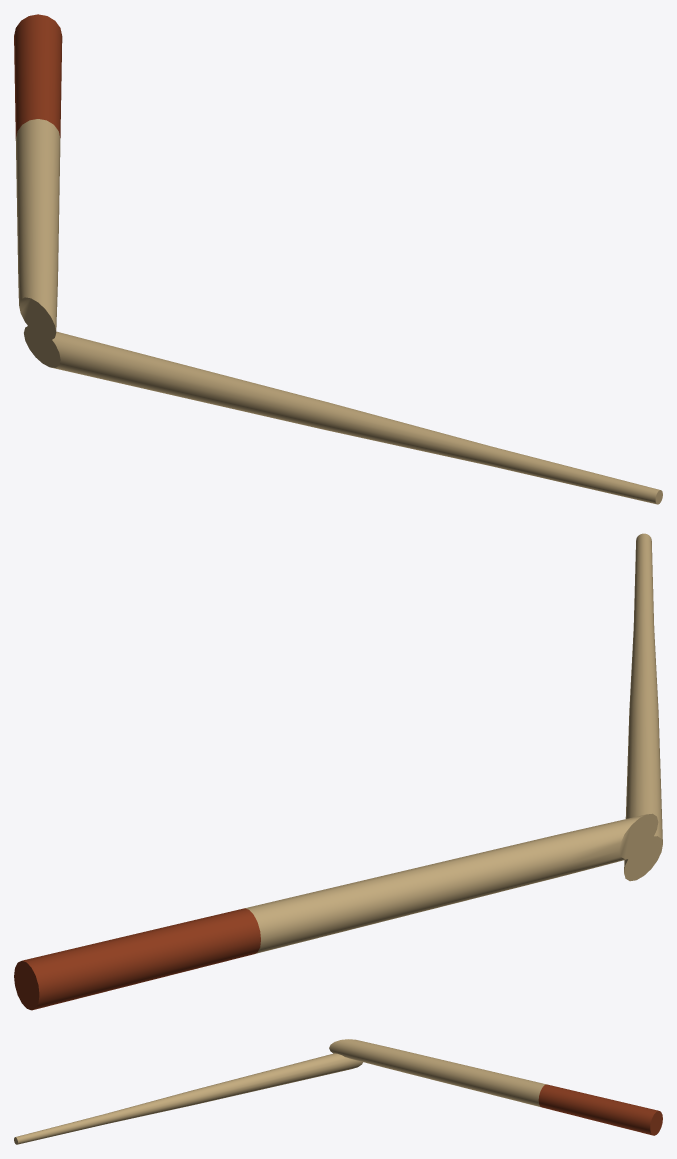
File: chopstick2.fbx
3 renders of one model, top to bottom at view 1: azimuth 30°, elevation 25°; view 2: azimuth 150°, elevation 25°; view 3: azimuth 270°, elevation 25°, orthographic. The views are drawn at different scales.
Visible parts, largest first — view 1: 布尔_17; view 2: 布尔_17; view 3: 布尔_17.
Part boxes in pixels (box(x1,y1,x2,y2)): 布尔_17: box(14, 14, 662, 504); 布尔_17: box(14, 533, 662, 1010); 布尔_17: box(14, 1039, 662, 1144).
Size of the model in its own units: 29.69 by 5.69 by 100.
